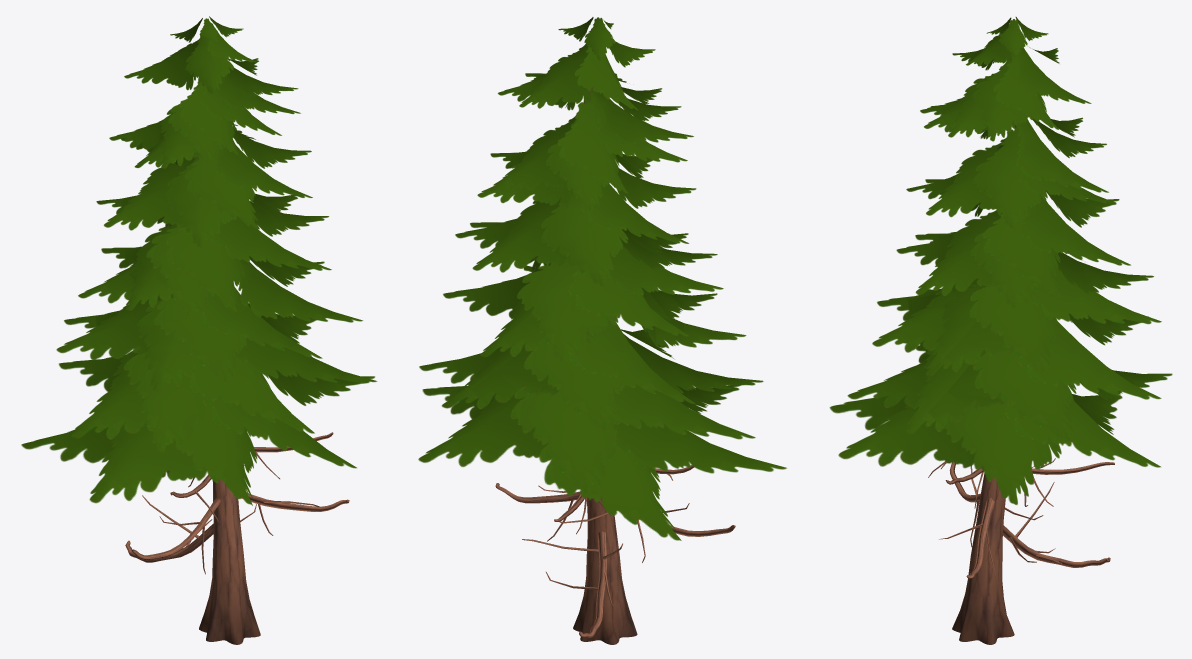
Rendered from n_pine2.glb.
3 views of the same model, side by side, from view 1: azimuth 30°, elevation 25°; view 2: azimuth 150°, elevation 25°; view 3: azimuth 270°, elevation 25° (orthographic). The views are drawn at different scales.
Visible parts, largest first — view 1: Pine_4; view 2: Pine_4; view 3: Pine_4.
Part boxes in pixels (x1,y1,x2,y2): Pine_4: (21,16,377,644); Pine_4: (418,17,787,644); Pine_4: (829,17,1172,644).
Bounding box in the file's own units: 5.8 × 10.24 × 5.37.
Materials: 2 (2 with a texture image).
